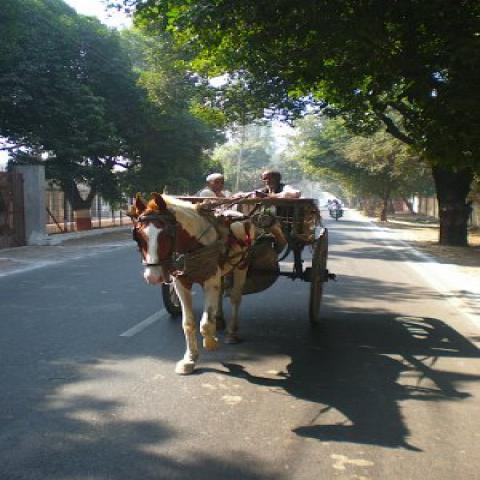motorcycle: (329, 206, 342, 221)
